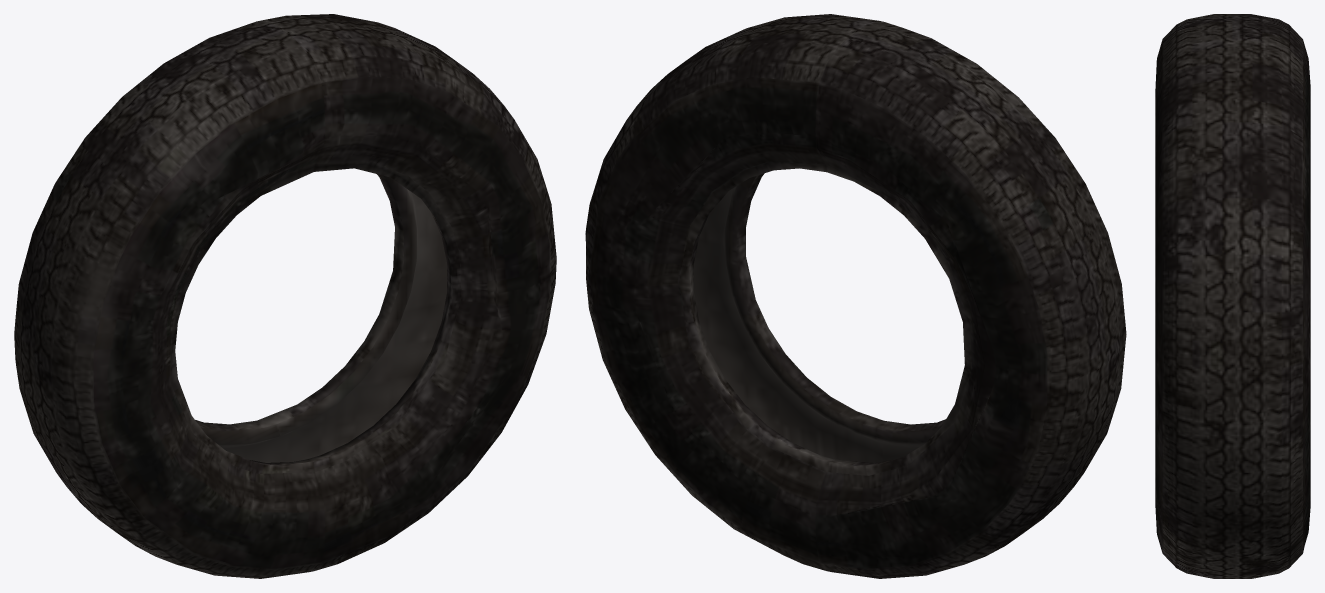
The model's file is old_tyre.glb.
The picture shows the model from 3 angles, left to right: view 1: azimuth 30°, elevation 25°; view 2: azimuth 150°, elevation 25°; view 3: azimuth 270°, elevation 25°; orthographic projection. The views are drawn at different scales.
Parts seen in each view (by area): view 1: old_tyre; view 2: old_tyre; view 3: old_tyre.
Part boxes in pixels (x1,y1,x2,y2): old_tyre: [14, 14, 556, 578]; old_tyre: [585, 14, 1126, 578]; old_tyre: [1155, 14, 1310, 578].
Size of the model in its own units: 0.6 by 0.6 by 0.165.
Materials: 1 (1 with a texture image).
